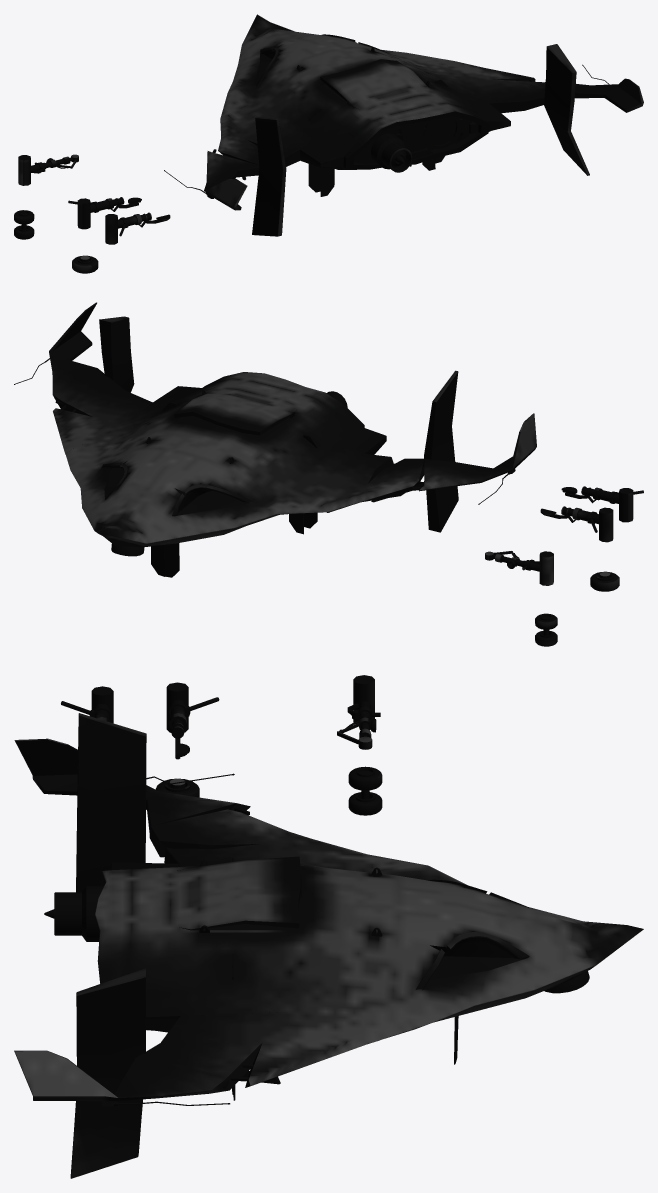
Rendered from manta_plane_broken.fbx.
3 views of the same model, one above another, from view 1: azimuth 30°, elevation 25°; view 2: azimuth 150°, elevation 25°; view 3: azimuth 270°, elevation 25° (orthographic). The views are drawn at different scales.
Parts seen in each view (by area): view 1: manta_plane_broken_base, manta_plane_broken_wing_right, manta_plane_broken_wingflap_left, manta_plane_broken_wingflap_right, manta_plane_broken_wing_left, manta_plane_broken_engine, manta_plane_broken_backlandinggear_right, manta_plane_broken_backlandinggear_left, manta_plane_broken_frontlandinggear, manta_plane_broken_frontwheel, manta_plane_broken_backdoor_left_l, manta_plane_broken_backwheel; view 2: manta_plane_broken_base, manta_plane_broken_wing_right, manta_plane_broken_wingflap_left, manta_plane_broken_wing_left, manta_plane_broken_wingflap_right, manta_plane_broken_backlandinggear_left, manta_plane_broken_backlandinggear_right, manta_plane_broken_frontlandinggear, manta_plane_broken_frontwheel, manta_plane_broken_backwheel, manta_plane_broken_frontdoor_left; view 3: manta_plane_broken_base, manta_plane_broken_wing_right, manta_plane_broken_wingflap_right, manta_plane_broken_wingflap_left, manta_plane_broken_wing_left, manta_plane_broken_engine, manta_plane_broken_frontlandinggear, manta_plane_broken_backlandinggear_right, manta_plane_broken_frontwheel, manta_plane_broken_backlandinggear_left.
Boxes of the visible parts, box(x1,y1,x2,y2) form: manta_plane_broken_base: box(218, 14, 510, 180); manta_plane_broken_wing_right: box(444, 59, 643, 113); manta_plane_broken_wingflap_left: box(252, 117, 286, 236); manta_plane_broken_wingflap_right: box(544, 44, 589, 175); manta_plane_broken_wing_left: box(164, 149, 259, 210); manta_plane_broken_engine: box(371, 133, 412, 172); manta_plane_broken_backlandinggear_right: box(68, 197, 141, 229); manta_plane_broken_backlandinggear_left: box(105, 212, 170, 244); manta_plane_broken_frontlandinggear: box(18, 154, 78, 185); manta_plane_broken_frontwheel: box(14, 210, 34, 239); manta_plane_broken_backdoor_left_l: box(308, 108, 322, 192); manta_plane_broken_backwheel: box(72, 255, 98, 273); manta_plane_broken_base: box(65, 372, 424, 556); manta_plane_broken_wing_right: box(14, 302, 152, 454); manta_plane_broken_wingflap_left: box(424, 370, 458, 532); manta_plane_broken_wing_left: box(411, 413, 536, 504); manta_plane_broken_wingflap_right: box(99, 316, 134, 392); manta_plane_broken_backlandinggear_left: box(561, 486, 643, 522); manta_plane_broken_backlandinggear_right: box(540, 506, 613, 542); manta_plane_broken_frontlandinggear: box(485, 551, 553, 585); manta_plane_broken_frontwheel: box(535, 613, 557, 646); manta_plane_broken_backwheel: box(590, 571, 619, 591); manta_plane_broken_frontdoor_left: box(164, 543, 179, 577); manta_plane_broken_base: box(95, 809, 643, 1038); manta_plane_broken_wing_right: box(14, 1012, 383, 1106); manta_plane_broken_wingflap_right: box(70, 968, 145, 1178); manta_plane_broken_wingflap_left: box(76, 713, 146, 892); manta_plane_broken_wing_left: box(14, 738, 250, 833); manta_plane_broken_engine: box(44, 886, 103, 941); manta_plane_broken_frontlandinggear: box(337, 675, 380, 749); manta_plane_broken_backlandinggear_right: box(166, 682, 219, 759); manta_plane_broken_frontwheel: box(348, 766, 382, 815); manta_plane_broken_backlandinggear_left: box(61, 686, 113, 723).
Size of the model in its own units: 1483 by 376 by 925.
Materials: 1 (1 with a texture image).
